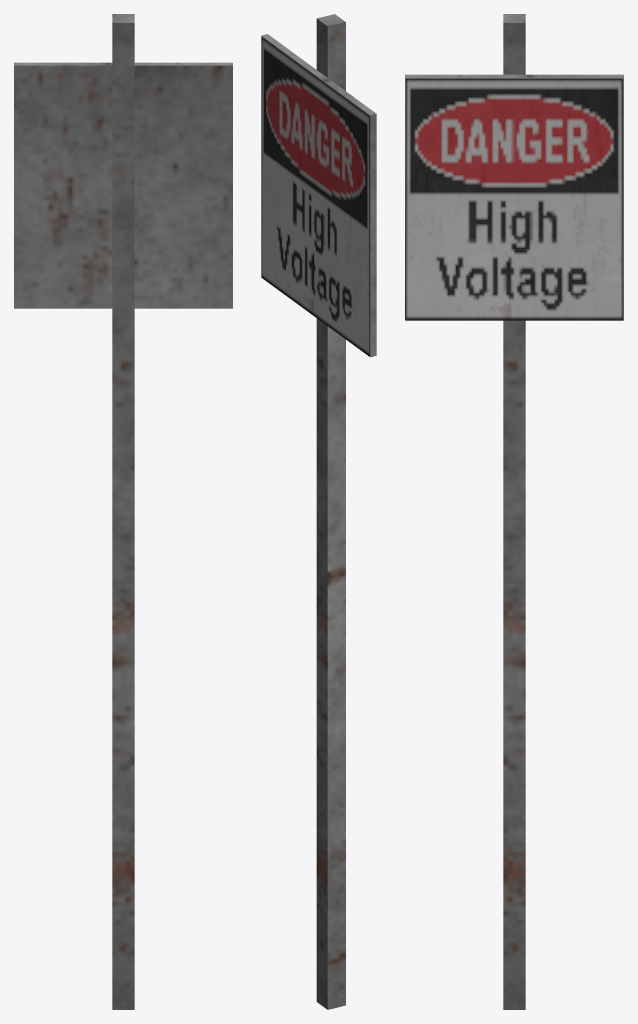
The model's file is Sign_3.fbx.
3 views of the same model, side by side, from view 1: azimuth 90°, elevation 25°; view 2: azimuth 210°, elevation 25°; view 3: azimuth 270°, elevation 25° (orthographic).
Parts seen in each view (by area): view 1: Sign_3; view 2: Sign_3; view 3: Sign_3.
Boxes of the visible parts, bbox=[...] form: Sign_3: bbox=[14, 14, 232, 1009]; Sign_3: bbox=[261, 14, 376, 1009]; Sign_3: bbox=[405, 14, 623, 1009].
Size of the model in its own units: 5.76 by 221 by 44.32.
